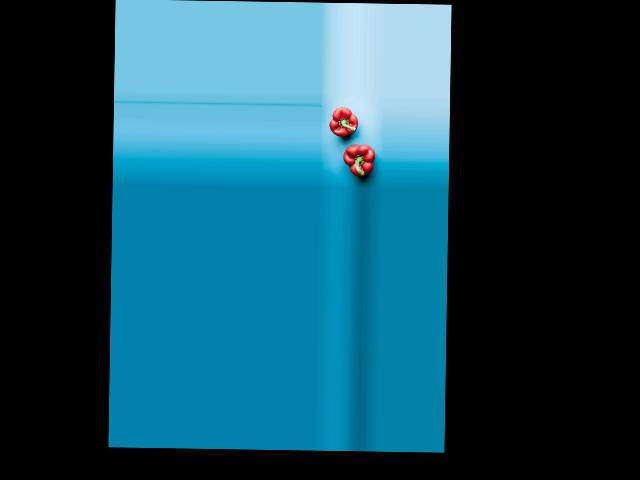bell_pepper: (339, 137, 374, 180)
